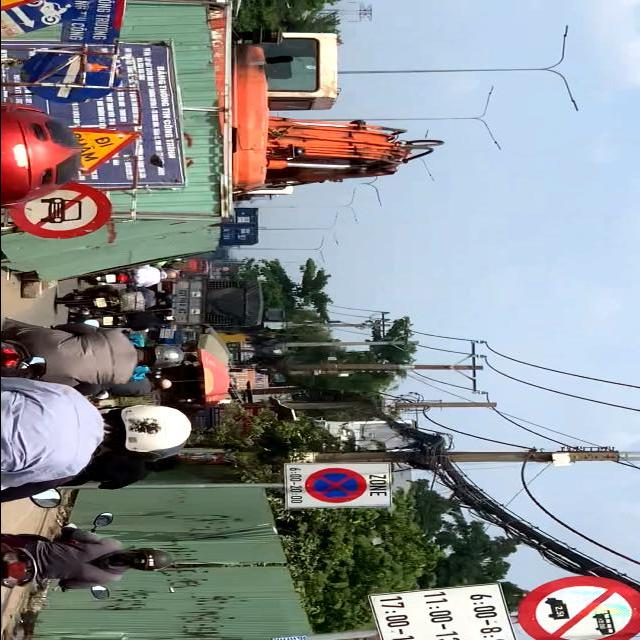P-130: (304, 468, 366, 502)
